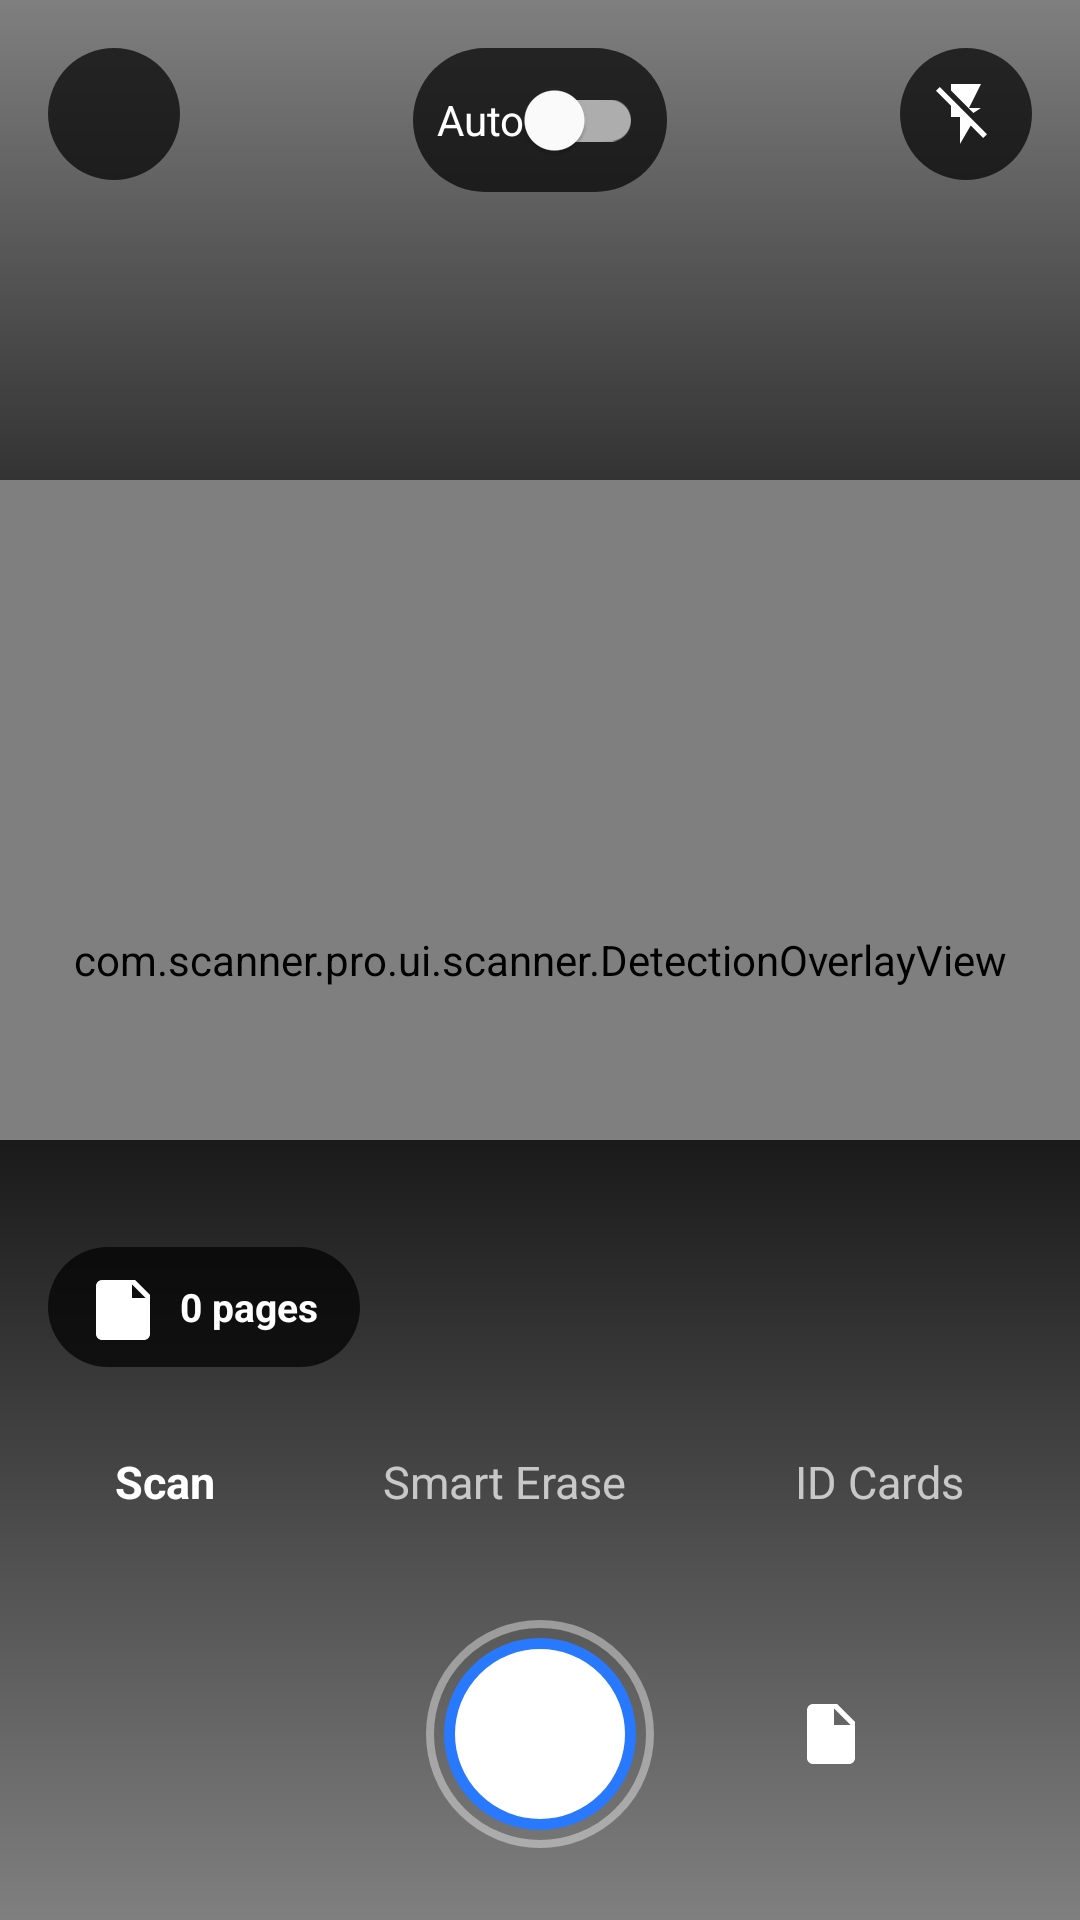

Named icons in this screenshot (1080 × 1920) and their centers, (x=x, y=y):
flash off: (x=966, y=114)
